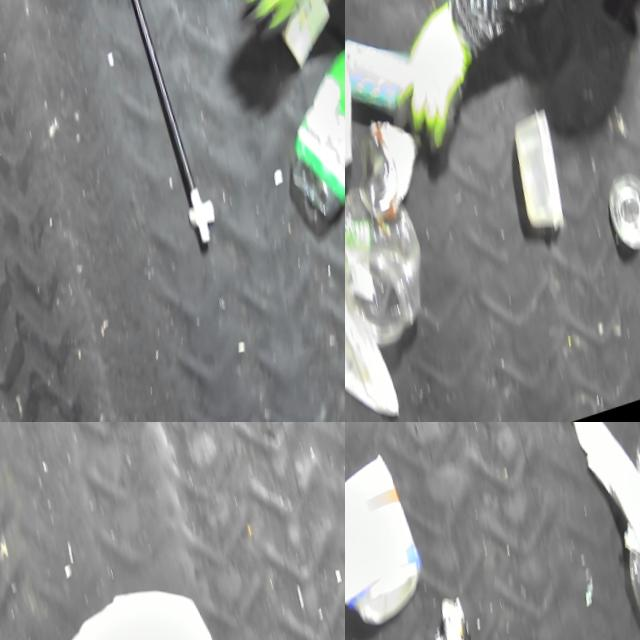can: (345, 110, 434, 227), (599, 172, 640, 266), (419, 595, 489, 640)
milk_jug: (42, 567, 245, 640)
plastic_bottle: (590, 422, 640, 640)
